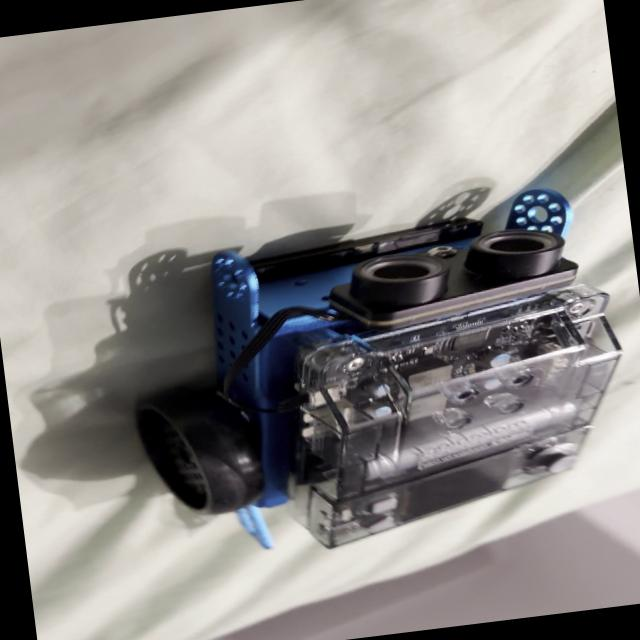mbot-detection: (91, 156, 640, 579)
